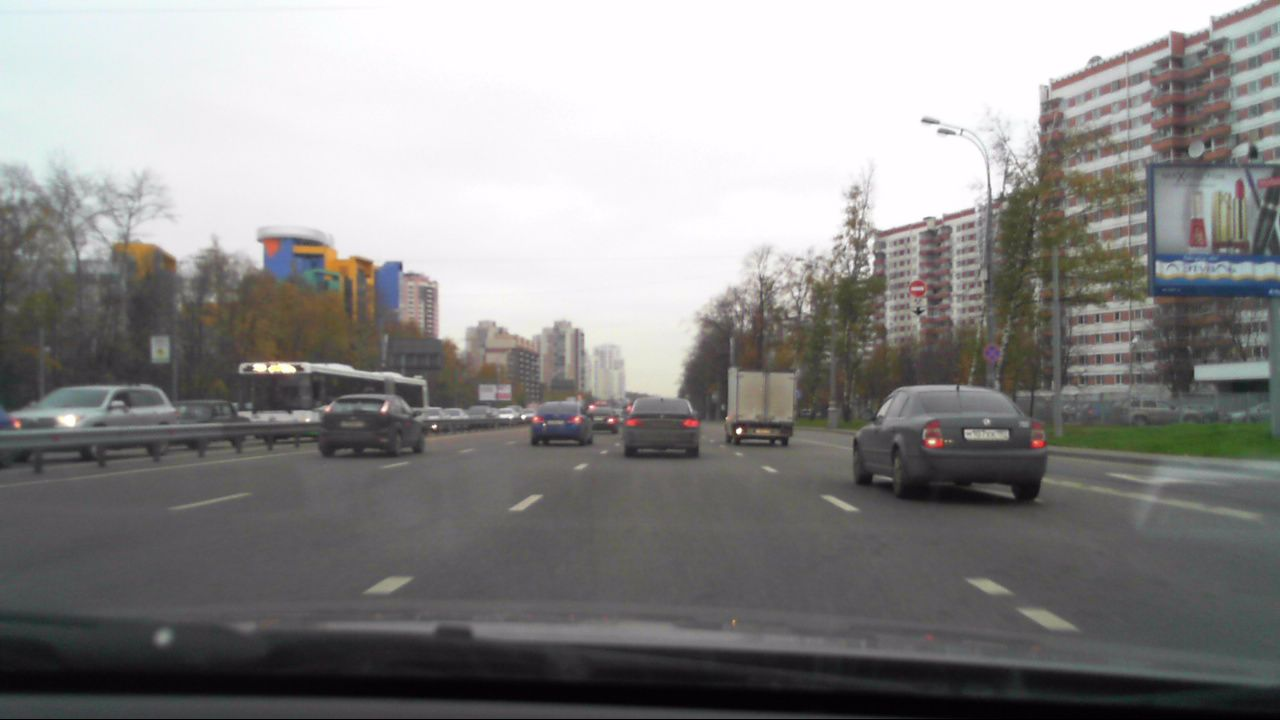No Parking: (982, 343, 1001, 362)
